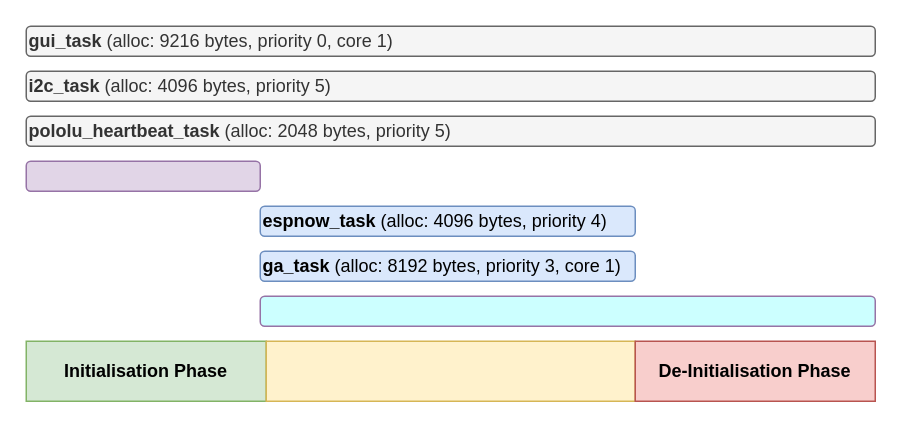
Image size: 902x428. Some labels were removed from this diagram. The box of each missing label's shape, as (x1, y1, x2, y2) in pixels:
Experiment Phase: (265, 340, 635, 401)
ota_task (alloc: 8192 bytes): (25, 160, 260, 191)
write_task (alloc: 4096 bytes, priority 1): (259, 295, 875, 326)
